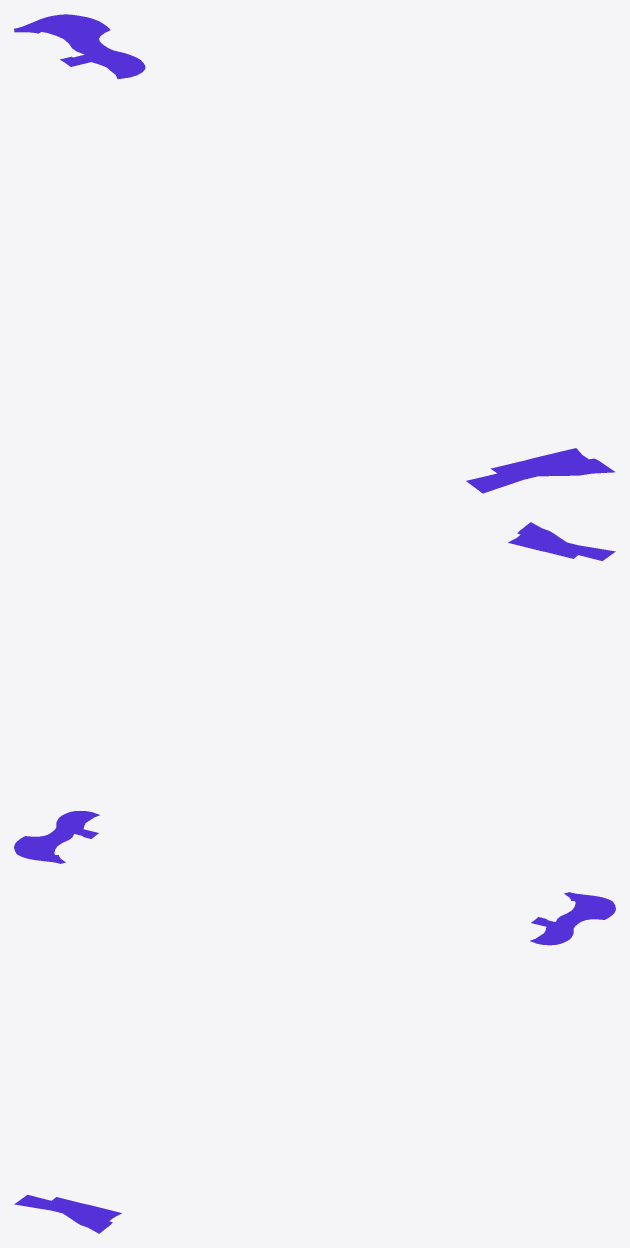
Rendered from wateruv.fbx.
The picture shows the model from 3 angles, top to bottom: view 1: azimuth 30°, elevation 25°; view 2: azimuth 150°, elevation 25°; view 3: azimuth 330°, elevation 25°; orthographic projection. The views are drawn at different scales.
Parts seen in each view (by area): view 1: element_2985, Unisee_004; view 2: element_2985, Unisee_004; view 3: element_2985, Unisee_004.
Part boxes in pixels (x1,y1,x2,y2): element_2985: (14,14,145,79); Unisee_004: (466,448,615,493); element_2985: (14,811,99,863); Unisee_004: (508,522,615,560); element_2985: (530,892,615,945); Unisee_004: (14,1194,121,1233).
Bounding box in the file's own units: 14198 × 8.78 × 75999.
